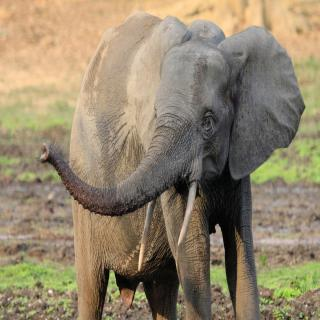Elephant: (38, 9, 308, 320)
